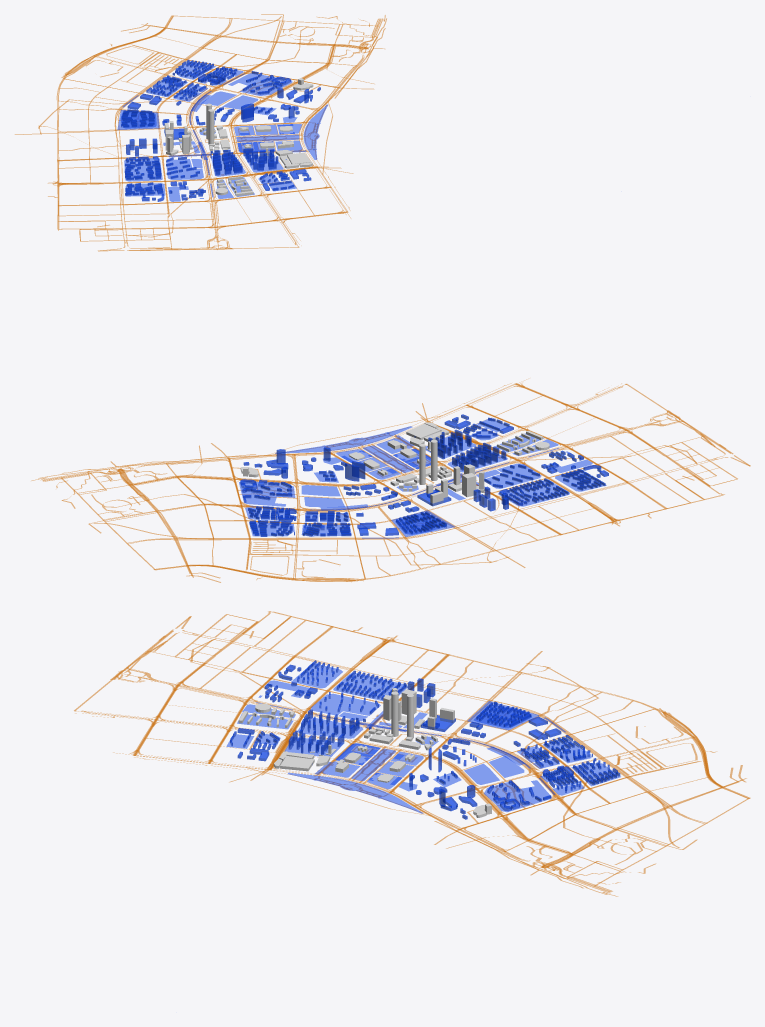
The model's file is map.dae.
3 renders of one model, top to bottom at view 1: azimuth 30°, elevation 25°; view 2: azimuth 150°, elevation 25°; view 3: azimuth 270°, elevation 25°, orthographic. The views are drawn at different scales.
Visible parts, largest first — view 1: 挤压, Areas_Areas.002; view 2: Areas_Areas.002, 挤压; view 3: Areas_Areas.002, 挤压.
Part boxes in pixels (<box>): 挤压: <box>15,14,386,251</box>; Areas_Areas.002: <box>117,59,327,201</box>; Areas_Areas.002: <box>239,414,608,538</box>; 挤压: <box>31,379,750,582</box>; Areas_Areas.002: <box>226,660,620,819</box>; 挤压: <box>74,611,750,896</box>.
Size of the model in its own units: 8727 by 429 by 6758.
